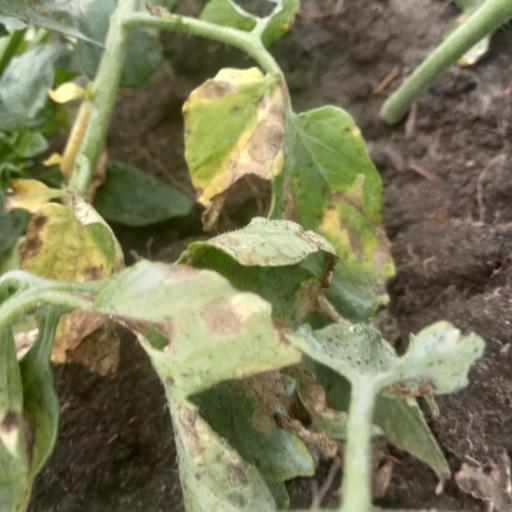Tomato_Brown_Spots: (99, 225, 341, 512), (186, 48, 400, 311)
